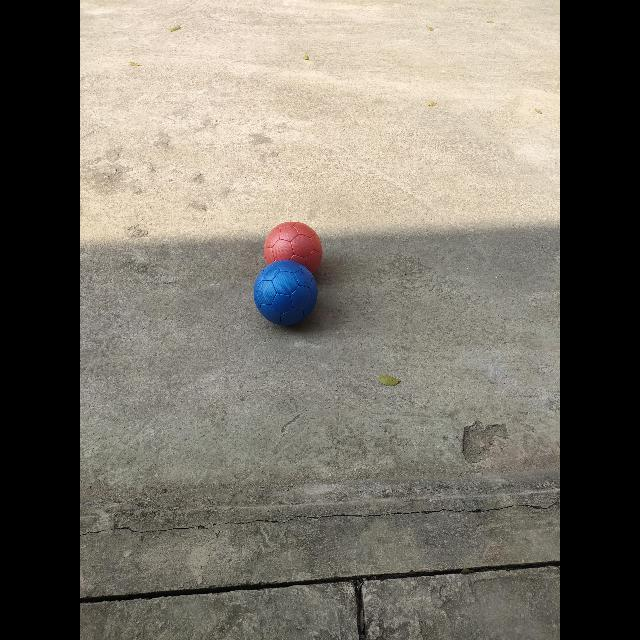B: (254, 260, 318, 325)
R: (264, 221, 322, 274)
